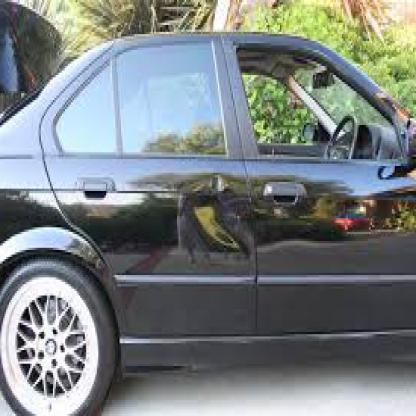dent: (190, 202, 242, 249)
